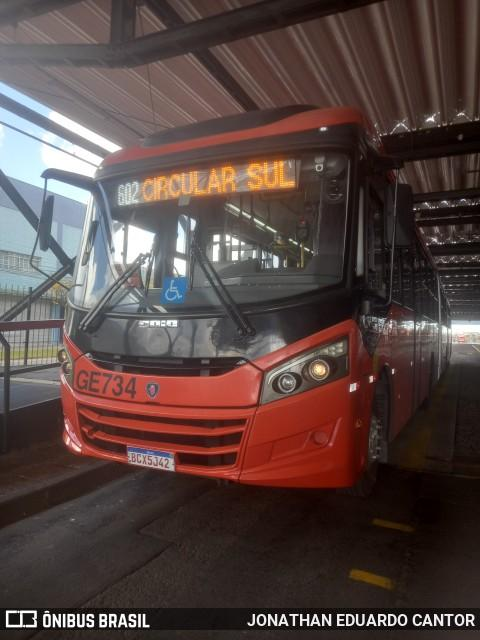CIRCULAR SUL: (139, 152, 299, 206)
